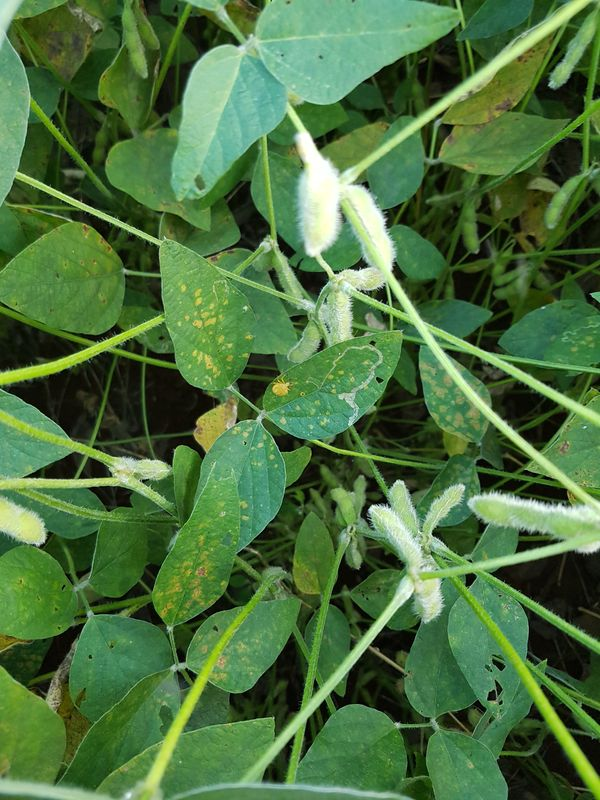Euschistus_heros_ninfa: (265, 373, 297, 403)
